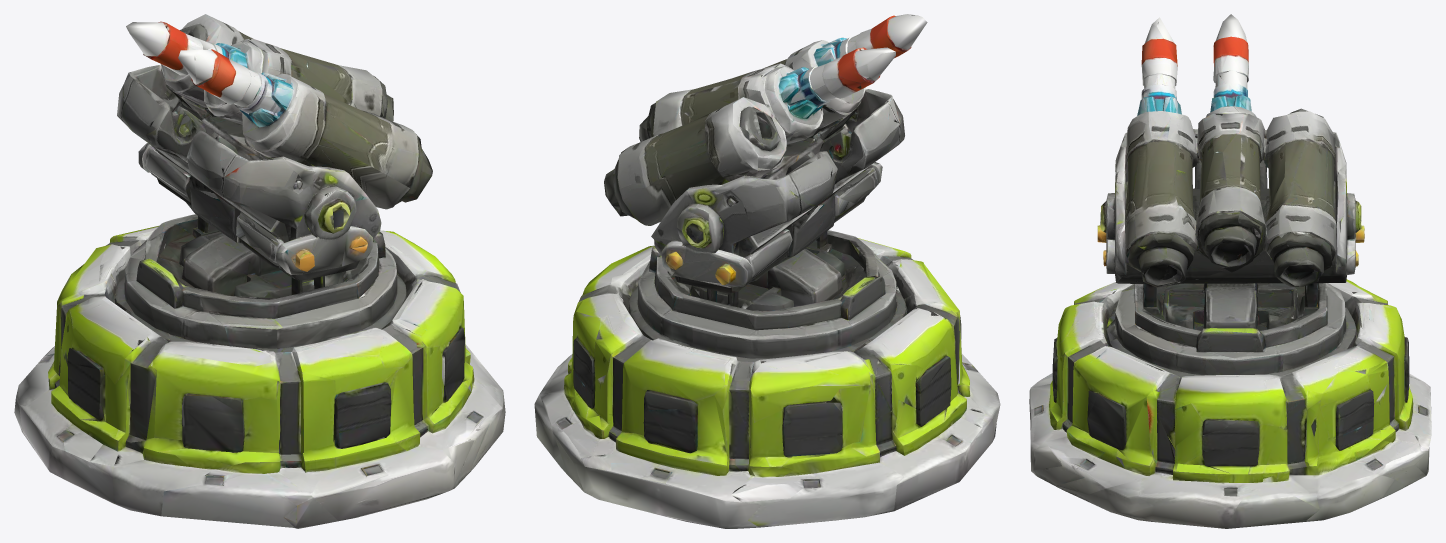
Rendered from turret-lm.glb.
3 renders of one model, left to right at view 1: azimuth 30°, elevation 25°; view 2: azimuth 150°, elevation 25°; view 3: azimuth 270°, elevation 25°, orthographic. The views are drawn at different scales.
Size of the model in its own units: 1.89 by 1.9 by 1.83.
1 material, 1 textured.
